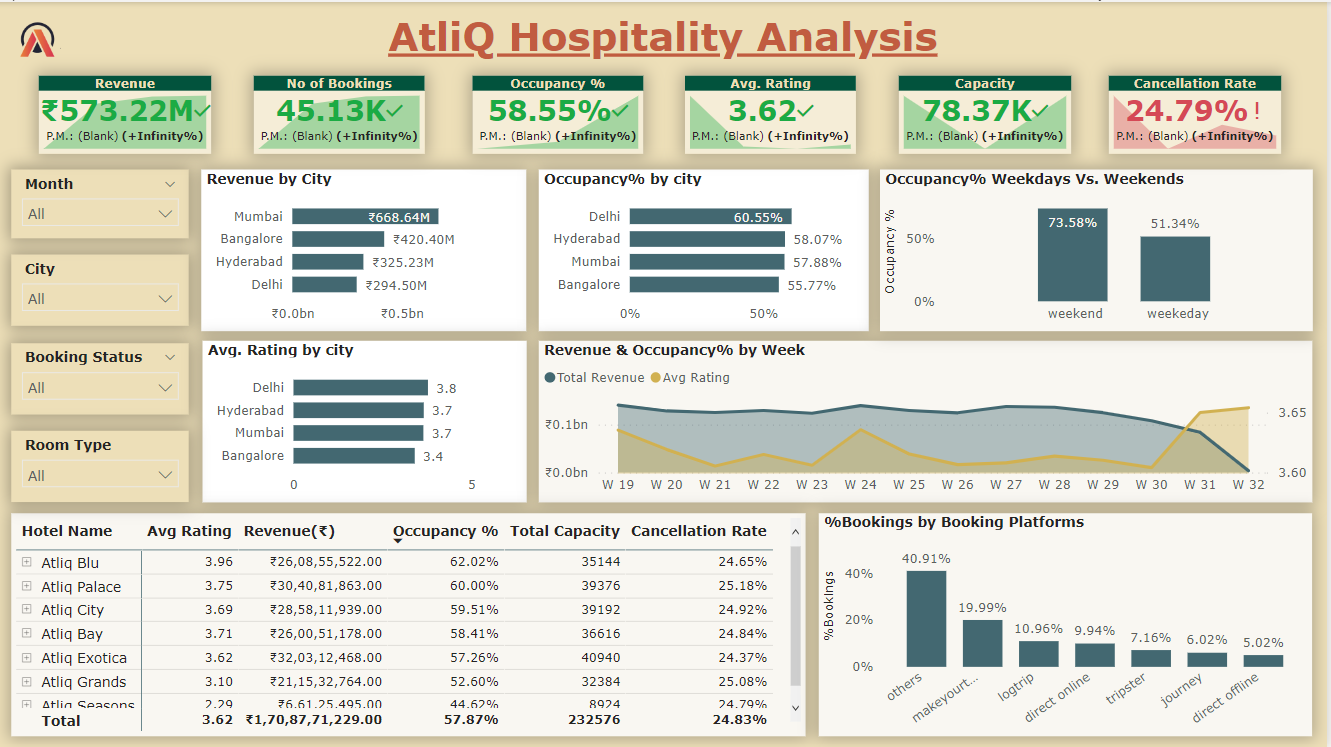

The dashboard page shown, as its layout file describes it:
{"tool":"powerbi","page":{"name":"Page 1","canvas":[1280,720],"ordinal":0},"visuals":[{"type":"slicer","fields":{"Values":["dim_hotels.city"]},"box":[11.2,243.8,171.2,68.8],"z":0},{"type":"slicer","fields":{"Values":["fact_bookings.booking_status"]},"box":[11.2,328.8,171.2,68.8],"z":1000},{"type":"slicer","fields":{"Values":["dim_date.mmm yy"]},"box":[11.2,161.2,171.2,66.2],"z":2000},{"type":"image","box":[0,7.5,68.8,57.5],"z":3000},{"type":"clusteredBarChart","title":"Revenue by City","fields":{"Category":["dim_hotels.city"],"Y":["Measures Table.Total Revenue"]},"box":[193.8,161.2,313.8,156.2],"z":4000},{"type":"clusteredBarChart","title":"Occupancy% by city","fields":{"Category":["dim_hotels.city"],"Y":["Measures Table.Occupancy %"]},"box":[520,161.2,318.8,156.2],"z":11000},{"type":"clusteredBarChart","title":"Avg. Rating by city","fields":{"Category":["dim_hotels.city"],"Y":["Measures Table.Avg Rating"]},"box":[195,326.2,312.5,156.2],"z":12000},{"type":"areaChart","title":"Revenue & Occupancy% by Week","fields":{"Category":["dim_date.week no"],"Y":["Measures Table.Total Revenue"],"Y2":["Measures Table.Avg Rating"]},"box":[520,326.2,746.2,156.2],"z":13000},{"type":"pivotTable","fields":{"Rows":["dim_hotels.property_name","dim_hotels.city"],"Values":["Measures Table.Avg Rating","Measures Table.Total Revenue","Measures Table.Occupancy %","Measures Table.Total Capacity","Measures Table.Cancellation Rate"]},"box":[11.2,493.8,766.2,215],"z":14000},{"type":"columnChart","title":"Occupancy% Weekdays Vs. Weekends","fields":{"Category":["dim_date.day_type"],"Y":["Measures Table.Occupancy %"]},"box":[848.8,161.2,417.5,156.2],"z":15000},{"type":"clusteredColumnChart","title":"%Bookings by Booking Platforms","fields":{"Category":["fact_bookings.booking_platform"],"Y":["Divide(Measures Table.Total No of Bookings, ScopedEval(Measures Table.Total No of Bookings, []))"]},"box":[790,493.8,476.2,215],"z":16000},{"type":"textbox","box":[322.5,5,635,61.2],"z":17000},{"type":"slicer","fields":{"Values":["dim_rooms.room_class"]},"box":[11.2,413.8,171.2,68.8],"z":18000},{"type":"kpi","title":"Revenue","fields":{"Goal":["Measures Table.Previous Revenue PM"],"Indicator":["Measures Table.Total Revenue"],"TrendLine":["dim_date.mmm yy"]},"box":[37.5,71.6,166.2,75],"z":18500},{"type":"kpi","title":"Occupancy %","fields":{"TrendLine":["dim_date.mmm yy"],"Indicator":["Measures Table.Occupancy %"],"Goal":["Measures Table.Previous Month Occupancy %"]},"box":[456.2,71.2,165,75],"z":19000},{"type":"kpi","title":"No of Bookings","fields":{"Goal":["Measures Table.Previous Bookings PM"],"TrendLine":["dim_date.mmm yy"],"Indicator":["Measures Table.Total No of Bookings"]},"box":[245,71.2,165,75],"z":19500},{"type":"kpi","title":"Avg. Rating","fields":{"Goal":["Measures Table.Avg Rating PM"],"TrendLine":["dim_date.mmm yy"],"Indicator":["Measures Table.Avg Rating"]},"box":[661.2,71.2,165,75],"z":20000},{"type":"kpi","title":"Capacity","fields":{"Goal":["Measures Table.Total Capacity PM"],"TrendLine":["dim_date.mmm yy"],"Indicator":["Measures Table.Total Capacity"]},"box":[867.5,71.2,166.2,75],"z":20500},{"type":"kpi","title":"Cancellation Rate","fields":{"TrendLine":["dim_date.mmm yy"],"Indicator":["Measures Table.Cancellation Rate"],"Goal":["Measures Table.Cancellation Rate PM"]},"box":[1070,71.6,166.2,75],"z":21000}]}

Visuals, with their boxes in screenshot pixels (x1, y1, x2, y2), scaled from the page's 1280x720 canvas onto the 1331x747 screenshot:
slicer - dim_hotels.city: (12,253,190,324)
slicer - fact_bookings.booking_status: (12,341,190,413)
slicer - dim_date.mmm yy: (12,167,190,236)
image: (0,8,72,67)
"Revenue by City" clusteredBarChart: (202,167,528,329)
"Occupancy% by city" clusteredBarChart: (541,167,872,329)
"Avg. Rating by city" clusteredBarChart: (203,338,528,500)
"Revenue & Occupancy% by Week" areaChart: (541,338,1317,500)
pivotTable - dim_hotels.property_name x dim_hotels.city: (12,512,808,735)
"Occupancy% Weekdays Vs. Weekends" columnChart: (883,167,1317,329)
"%Bookings by Booking Platforms" clusteredColumnChart: (821,512,1317,735)
textbox: (335,5,996,69)
slicer - dim_rooms.room_class: (12,429,190,501)
"Revenue" kpi: (39,74,212,152)
"Occupancy %" kpi: (474,74,646,152)
"No of Bookings" kpi: (255,74,426,152)
"Avg. Rating" kpi: (688,74,859,152)
"Capacity" kpi: (902,74,1075,152)
"Cancellation Rate" kpi: (1113,74,1285,152)
